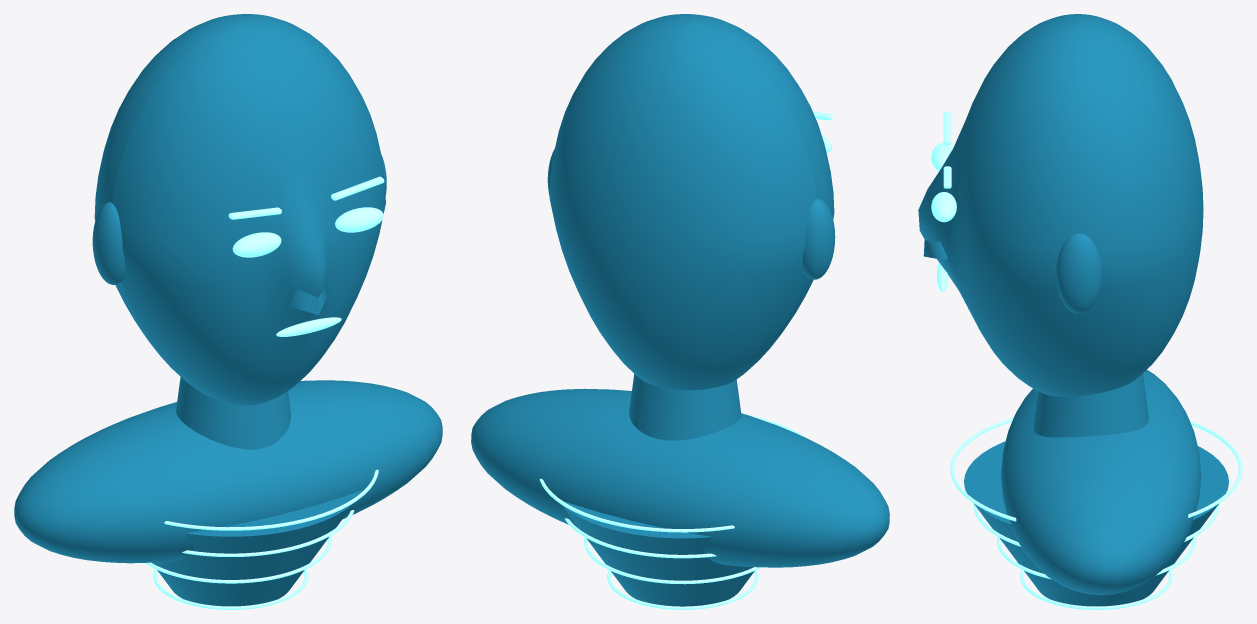
Rendered from holo-prototype.glb.
3 renders of one model, left to right at view 1: azimuth 30°, elevation 25°; view 2: azimuth 150°, elevation 25°; view 3: azimuth 270°, elevation 25°, orthographic. The views are drawn at different scales.
Parts seen in each view (by area): view 1: FaceMesh, Shoulders, Bust, Neck, EarLeft, ProjectionBand3, EyeLeft, EyeRight, ProjectionBand1, ProjectionBand0, ProjectionBand2, Mouth (+1 smaller); view 2: FaceMesh, Shoulders, Bust, Neck, EarLeft, ProjectionBand3, ProjectionBand1, ProjectionBand0, ProjectionBand2; view 3: FaceMesh, Shoulders, Bust, Neck, EarRight, ProjectionBand3, ProjectionBand0, EyeRight, ProjectionBand1, ProjectionBand2.
Boxes of the visible parts, left/top/right/bottom form: FaceMesh: left=94, top=14, right=385, bottom=405; Shoulders: left=14, top=380, right=442, bottom=563; Bust: left=152, top=490, right=362, bottom=606; Neck: left=176, top=377, right=290, bottom=449; EarLeft: left=92, top=202, right=125, bottom=284; ProjectionBand3: left=164, top=469, right=378, bottom=530; EyeLeft: left=232, top=232, right=281, bottom=257; EyeRight: left=335, top=207, right=383, bottom=232; ProjectionBand1: left=145, top=536, right=331, bottom=583; ProjectionBand0: left=153, top=569, right=308, bottom=609; ProjectionBand2: left=182, top=510, right=354, bottom=556; Mouth: left=276, top=317, right=341, bottom=336; FaceMesh: left=549, top=14, right=834, bottom=390; Shoulders: left=471, top=388, right=889, bottom=567; Bust: left=562, top=501, right=754, bottom=606; Neck: left=629, top=374, right=741, bottom=440; EarLeft: left=802, top=198, right=835, bottom=279; ProjectionBand3: left=539, top=413, right=807, bottom=532; ProjectionBand1: left=584, top=537, right=760, bottom=584; ProjectionBand0: left=607, top=570, right=758, bottom=609; ProjectionBand2: left=564, top=518, right=716, bottom=558; FaceMesh: left=918, top=14, right=1203, bottom=396; Shoulders: left=1001, top=370, right=1201, bottom=595; Bust: left=964, top=441, right=1228, bottom=606; Neck: left=1033, top=373, right=1148, bottom=437; EarRight: left=1056, top=233, right=1102, bottom=313; ProjectionBand3: left=950, top=417, right=1242, bottom=521; ProjectionBand0: left=1020, top=570, right=1172, bottom=609; EyeRight: left=931, top=192, right=956, bottom=222; ProjectionBand1: left=997, top=536, right=1195, bottom=579; ProjectionBand2: left=973, top=504, right=1219, bottom=546.
Bounding box in the file's own units: 2.04 × 2.65 × 1.39.
